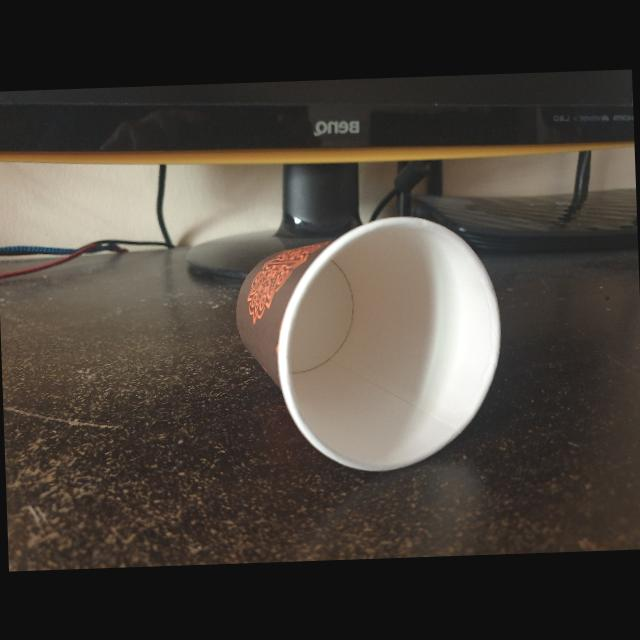trash: (231, 212, 509, 478)
